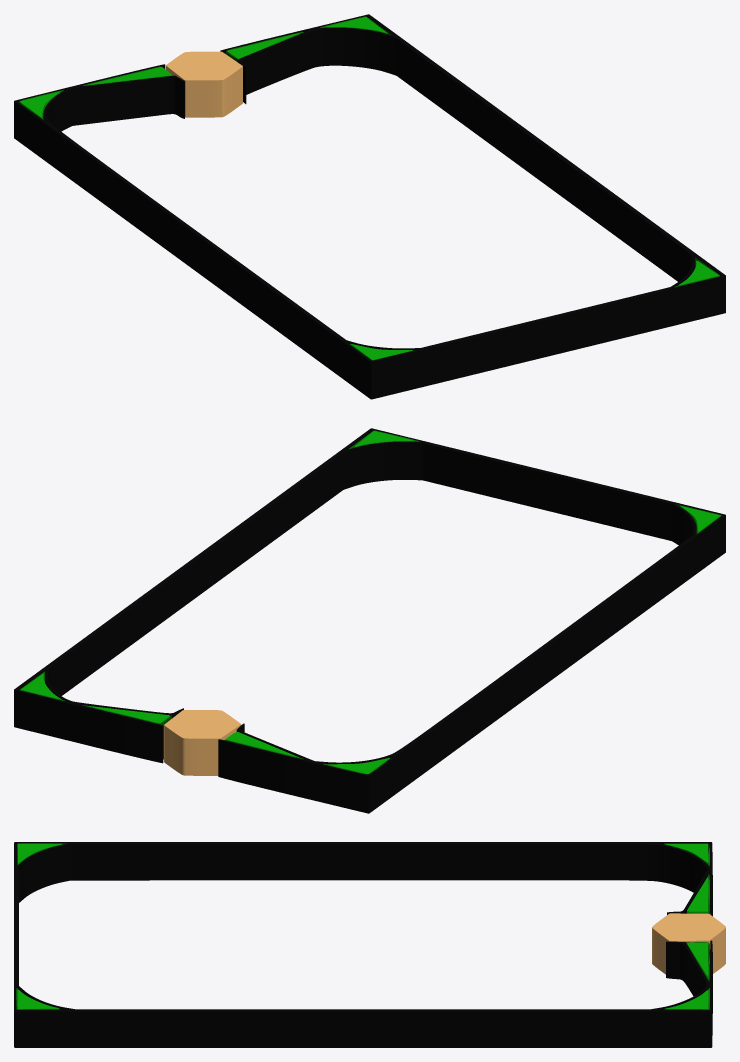
3 renders of one model, top to bottom at view 1: azimuth 30°, elevation 25°; view 2: azimuth 150°, elevation 25°; view 3: azimuth 270°, elevation 25°, orthographic. The views are drawn at different scales.
Visible parts, largest first — view 1: imagetostl_mesh0, imagetostl_mesh1, imagetostl_mesh14, imagetostl_mesh15; view 2: imagetostl_mesh0, imagetostl_mesh1, imagetostl_mesh14, imagetostl_mesh15; view 3: imagetostl_mesh0, imagetostl_mesh1, imagetostl_mesh15, imagetostl_mesh14, imagetostl_mesh3, imagetostl_mesh5, imagetostl_mesh7, imagetostl_mesh9, imagetostl_mesh11, imagetostl_mesh13.
Boxes of the visible parts, x1,y1,x2,y2 form: imagetostl_mesh0: [14, 16, 725, 399]; imagetostl_mesh1: [14, 14, 725, 362]; imagetostl_mesh14: [166, 66, 242, 117]; imagetostl_mesh15: [166, 51, 242, 80]; imagetostl_mesh0: [14, 430, 725, 813]; imagetostl_mesh1: [14, 428, 725, 776]; imagetostl_mesh14: [164, 724, 240, 775]; imagetostl_mesh15: [164, 710, 240, 738]; imagetostl_mesh0: [14, 843, 712, 1047]; imagetostl_mesh1: [14, 842, 712, 1011]; imagetostl_mesh15: [652, 913, 725, 940]; imagetostl_mesh14: [652, 928, 725, 974]; imagetostl_mesh3: [687, 877, 708, 911]; imagetostl_mesh5: [687, 942, 708, 976]; imagetostl_mesh7: [664, 843, 708, 862]; imagetostl_mesh9: [18, 843, 61, 862]; imagetostl_mesh11: [665, 990, 708, 1008]; imagetostl_mesh13: [18, 989, 58, 1008].
Bounding box in the file's own units: 10000 × 1000 × 17765.
